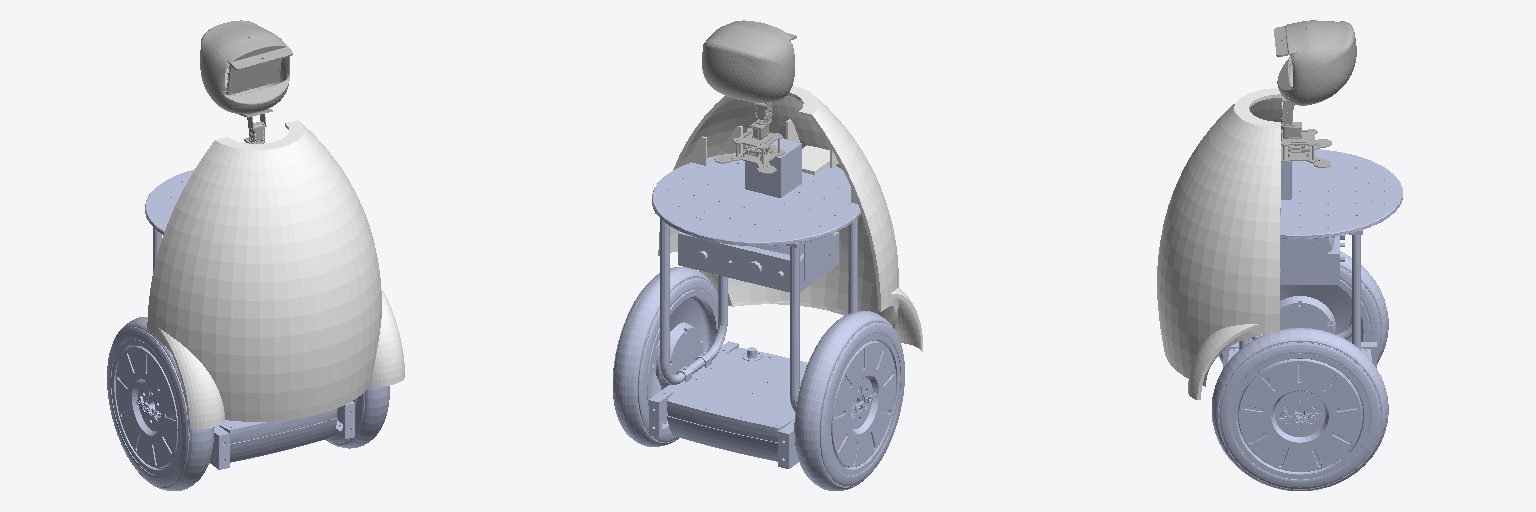
URDF robot description (robot):
<?xml version="1.0" encoding="utf-8"?>
<!-- This URDF was automatically created by SolidWorks to URDF Exporter! Originally created by [author] ([email redacted]) 
     Commit Version: 1.6.0-1-g15f4949  Build Version: 1.6.7594.29634
     For more information, please see http://wiki.ros.org/sw_urdf_exporter -->
<robot
  name="robot">
  <link
    name="base_link">
    <inertial>
      <origin
        xyz="0.0360380993776957 -0.000410073967294581 0.03690275657395"
        rpy="0 0 0" />
      <mass
        value="130.144212732607" />
      <inertia
        ixx="7.0555285312449"
        ixy="-0.0252709930386588"
        ixz="-0.121142779686728"
        iyy="6.21408523089706"
        iyz="0.0209212086050636"
        izz="3.38070852325745" />
    </inertial>
    <visual>
      <origin
        xyz="0 0 0"
        rpy="0 0 0" />
      <geometry>
        <mesh
          filename="package://robot/meshes/base_link.STL" />
      </geometry>
      <material
        name="">
        <color
          rgba="0.792156862745098 0.819607843137255 0.933333333333333 1" />
      </material>
    </visual>
    <collision>
      <origin
        xyz="0 0 0"
        rpy="0 0 0" />
      <geometry>
        <mesh
          filename="package://robot/meshes/base_link.STL" />
      </geometry>
    </collision>
  </link>
  <link
    name="ara_parca_link">
    <inertial>
      <origin
        xyz="0 1.0588621593521E-17 -0.0578639244522826"
        rpy="0 0 0" />
      <mass
        value="1.34982525666118" />
      <inertia
        ixx="0.00281891394775808"
        ixy="4.74338450462408E-20"
        ixz="-1.00425720957971E-19"
        iyy="0.00281891394775808"
        iyz="4.93059029226279E-20"
        izz="0.00262460867965498" />
    </inertial>
    <visual>
      <origin
        xyz="0 0 0"
        rpy="0 0 0" />
      <geometry>
        <mesh
          filename="package://robot/meshes/ara_parca_link.STL" />
      </geometry>
      <material
        name="">
        <color
          rgba="0.792156862745098 0.819607843137255 0.933333333333333 1" />
      </material>
    </visual>
    <collision>
      <origin
        xyz="0 0 0"
        rpy="0 0 0" />
      <geometry>
        <mesh
          filename="package://robot/meshes/ara_parca_link.STL" />
      </geometry>
    </collision>
  </link>
  <joint
    name="ara_parca_joint"
    type="fixed">
    <origin
      xyz="0 0 0"
      rpy="0 0 -0.011591" />
    <parent
      link="base_link" />
    <child
      link="ara_parca_link" />
    <axis
      xyz="0 0 0" />
  </joint>
  <link
    name="pt_link">
    <inertial>
      <origin
        xyz="-0.0193781388090414 0.000671454544267212 0.0736333463420169"
        rpy="0 0 0" />
      <mass
        value="0.202857209325481" />
      <inertia
        ixx="0.000269774540977276"
        ixy="3.05598026652947E-07"
        ixz="-4.92121564176597E-05"
        iyy="0.000295633797549966"
        iyz="-3.75131881031855E-07"
        izz="0.000289215649910664" />
    </inertial>
    <visual>
      <origin
        xyz="0 0 0"
        rpy="0 0 0" />
      <geometry>
        <mesh
          filename="package://robot/meshes/pt_link.STL" />
      </geometry>
      <material
        name="">
        <color
          rgba="0.752941176470588 0.752941176470588 0.752941176470588 1" />
      </material>
    </visual>
    <collision>
      <origin
        xyz="0 0 0"
        rpy="0 0 0" />
      <geometry>
        <mesh
          filename="package://robot/meshes/pt_link.STL" />
      </geometry>
    </collision>
  </link>
  <joint
    name="pt_joint"
    type="fixed">
    <origin
	    xyz="0 0 0"
      rpy="0 0 -3.1317" />
    <parent
      link="ara_parca_link" />
    <child
      link="pt_link" />
    <axis
      xyz="0 0 0" />
  </joint>
  <link
    name="kafa_link">
    <inertial>
      <origin
        xyz="0.18065 -0.034976 -0.015996"
        rpy="0 0 0" />
      <mass
        value="0.98095" />
      <inertia
        ixx="0.0086192"
        ixy="-4.0365E-07"
        ixz="0.00068816"
        iyy="0.0073775"
        iyz="1.5958E-09"
        izz="0.0082719" />
    </inertial>
    <visual>
      <origin
        xyz="0 0 0"
        rpy="0 0 0" />
      <geometry>
        <mesh
          filename="package://robot/meshes/kafa_link.STL" />
      </geometry>
      <material
        name="">
        <color
          rgba="0.75294 0.75294 0.75294 1" />
      </material>
    </visual>
    <collision>
      <origin
        xyz="0 0 0"
        rpy="0 0 0" />
      <geometry>
        <mesh
          filename="package://robot/meshes/kafa_link.STL" />
      </geometry>
    </collision>
  </link>
  <joint
    name="kafa_joint"
    type="fixed">
    <origin
      xyz="-0.02 -0.023159 0"
      rpy="0.0094676 0 -3.14" />
    <parent
      link="pt_link" />
    <child
      link="kafa_link" />
    <axis
      xyz="0 0 0" />
  </joint>
  <link
    name="kabuk_link">
    <inertial>
      <origin
        xyz="0 0 0"
        rpy="0 0 0" />
      <mass
        value="0" />
      <inertia
        ixx="0"
        ixy="0"
        ixz="0"
        iyy="0"
        iyz="0"
        izz="0" />
    </inertial>
    <visual>
      <origin
        xyz="0 0 0"
        rpy="0 0 0" />
      <geometry>
        <mesh
          filename="package://robot/meshes/kabuk_link.STL" />
      </geometry>
      <material
        name="">
        <color
          rgba="1 1 1 1" />
      </material>
    </visual>
    <collision>
      <origin
        xyz="0 0 0"
        rpy="0 0 0" />
      <geometry>
        <mesh
          filename="package://robot/meshes/kabuk_link.STL" />
      </geometry>
    </collision>
  </link>
  <joint
    name="kabuk_joint"
    type="fixed">
    <origin
      xyz="0 0 0"
      rpy="0 0 0" />
    <parent
      link="base_link" />
    <child
      link="kabuk_link" />
    <axis
      xyz="0 0 0" />
  </joint>
</robot>

--- Render facts (derived) ---
3 views of the same robot in one strip: view 1: azimuth 30°, elevation 25°; view 2: azimuth 150°, elevation 25°; view 3: azimuth 270°, elevation 25° (orthographic).
Model robot with 5 links and 4 joints (4 fixed), rooted at base_link, posed every joint at zero.
Links seen in each view (by area): view 1: kabuk_link, base_link, kafa_link, pt_link; view 2: base_link, kabuk_link, kafa_link, ara_parca_link, pt_link; view 3: base_link, kabuk_link, kafa_link, pt_link.
Boxes of the visible links, box(x1,y1,x2,y2) form: kabuk_link: box(147, 120, 404, 428); base_link: box(107, 169, 389, 490); kafa_link: box(200, 20, 292, 113); pt_link: box(239, 109, 272, 143); base_link: box(613, 153, 904, 490); kabuk_link: box(658, 86, 922, 351); kafa_link: box(702, 20, 796, 102); ara_parca_link: box(745, 138, 801, 197); pt_link: box(714, 102, 785, 173); base_link: box(1212, 149, 1402, 490); kabuk_link: box(1157, 88, 1282, 399); kafa_link: box(1274, 20, 1356, 105); pt_link: box(1281, 96, 1331, 167).
Bounding box of the posed robot: 0.6765 × 0.6678 × 1.26 m (x, y, z).
Meshes: 5 distinct files referenced, 5 mesh visuals loaded (5 binary STL).